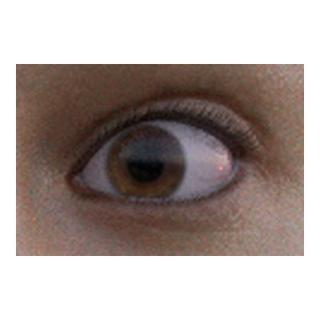pupil: (128, 147, 163, 182)
